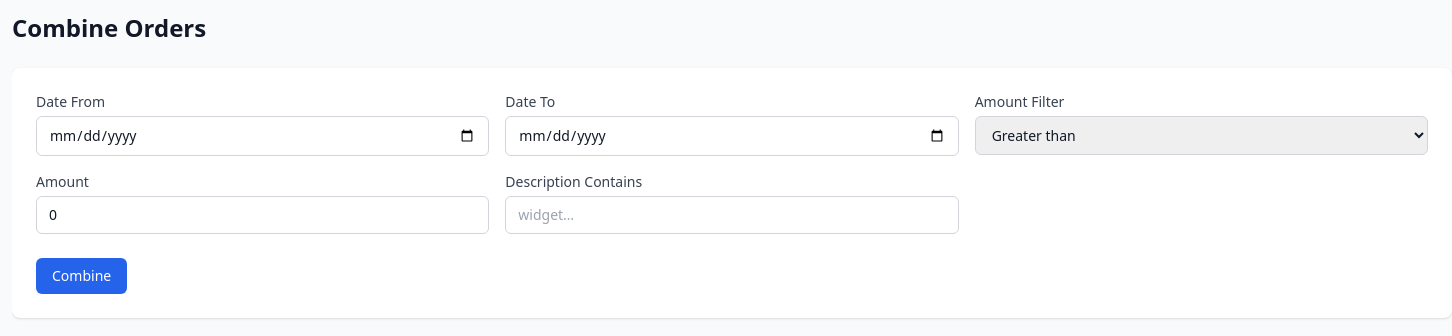
Combine › shows BETWEEN field only when BETWEEN selected
Select "Between" in the dropdown at (1201, 136), box 975,116 -> 1428,155
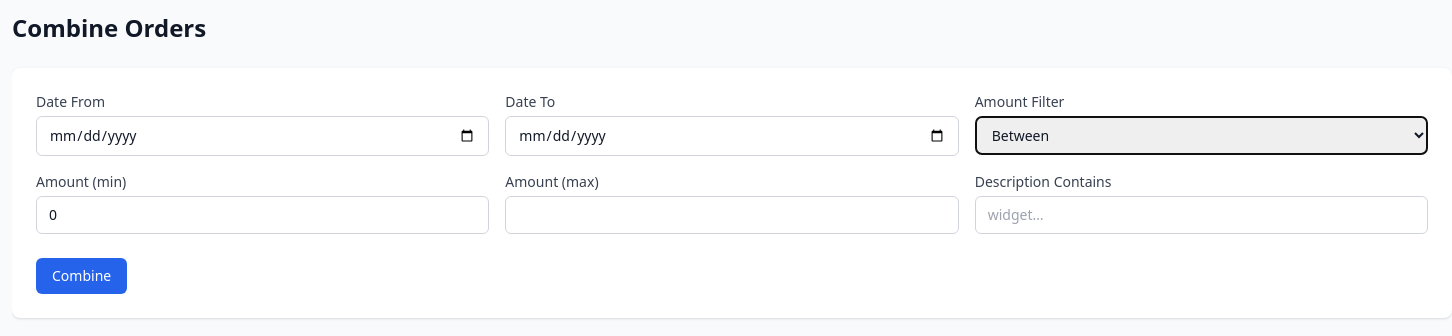
Check: the number field labelled "Amount (max)" is shown, box 505,196 -> 959,234
